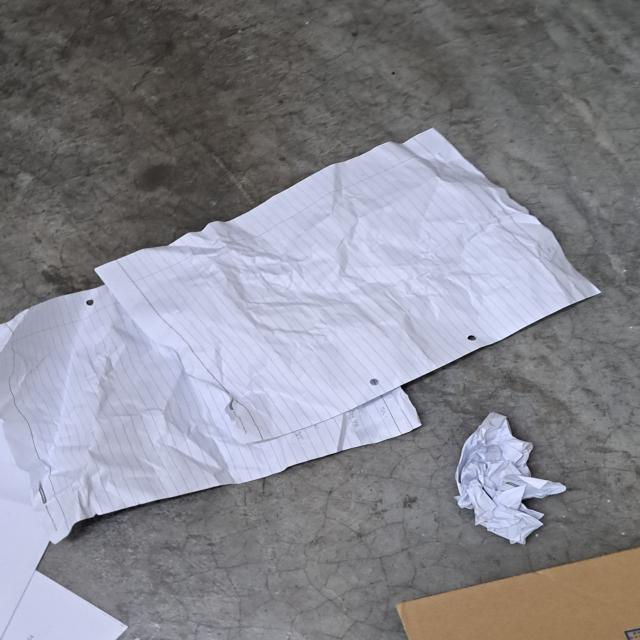cardboard: (393, 547, 639, 640)
paper: (96, 127, 603, 446), (0, 287, 424, 543), (452, 414, 569, 547)
